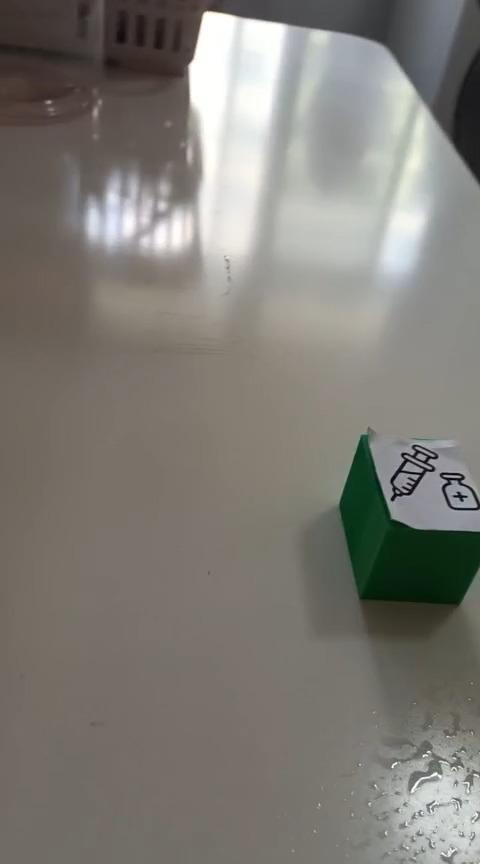antiseptic cream: (337, 425, 478, 606)
